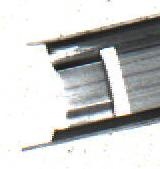press: (18, 20, 148, 150)
